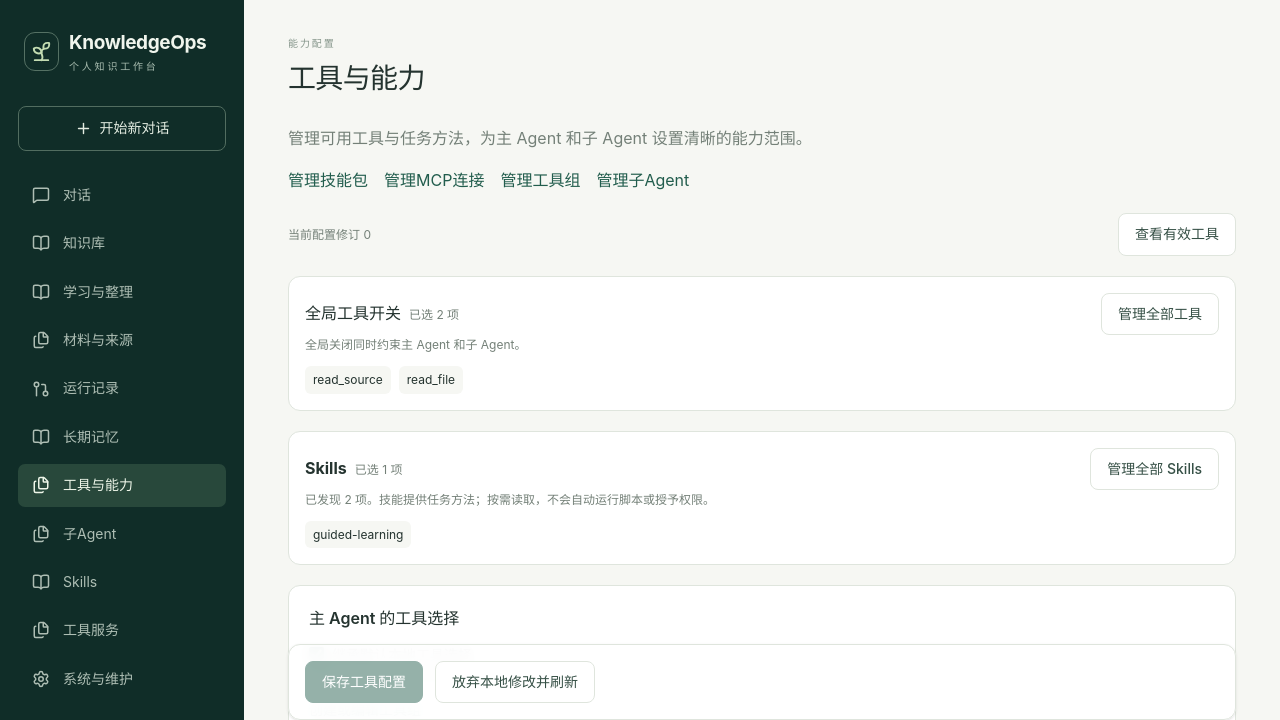
Test: persists skill switches through the versioned policy without changing deployment availability
Click the button "管理全部 Skills".
click(1155, 469)  # box left=1090, top=448, right=1219, bottom=490
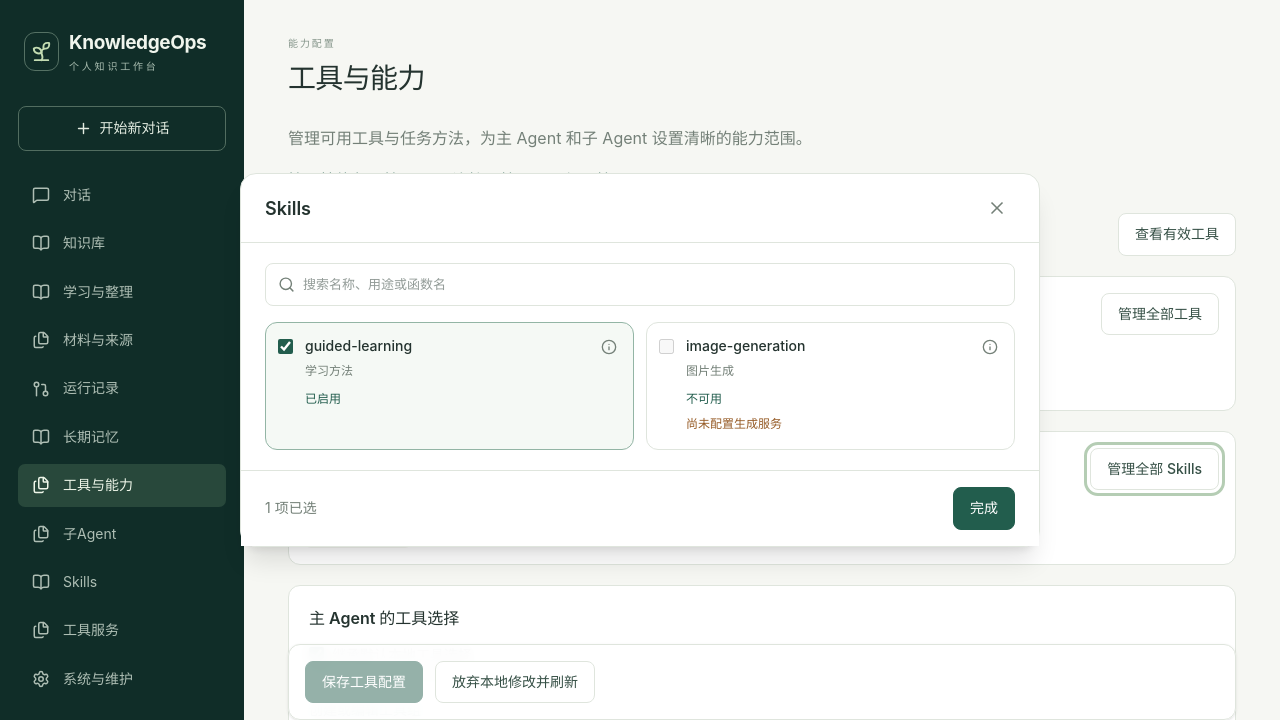
Click the checkbox labelled "guided-learning".
click(286, 346)  # box left=278, top=339, right=293, bottom=354
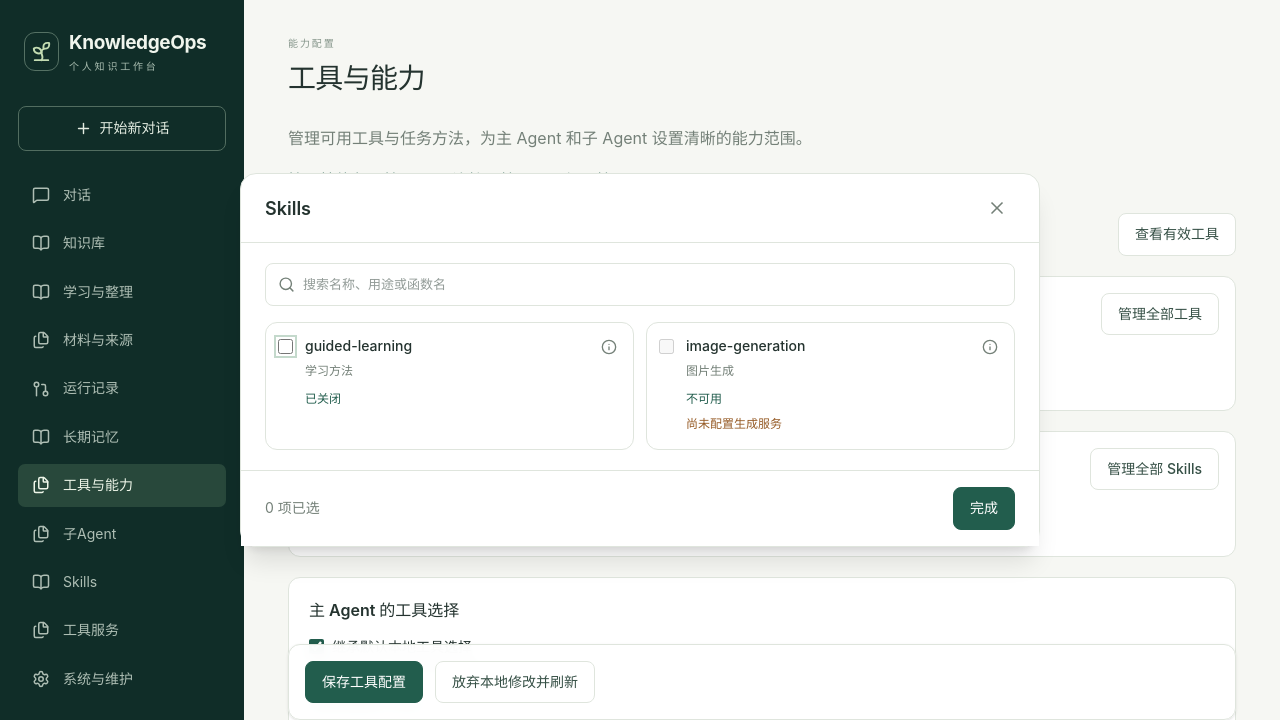
Click the button "完成".
click(984, 509)  # box left=953, top=487, right=1015, bottom=530
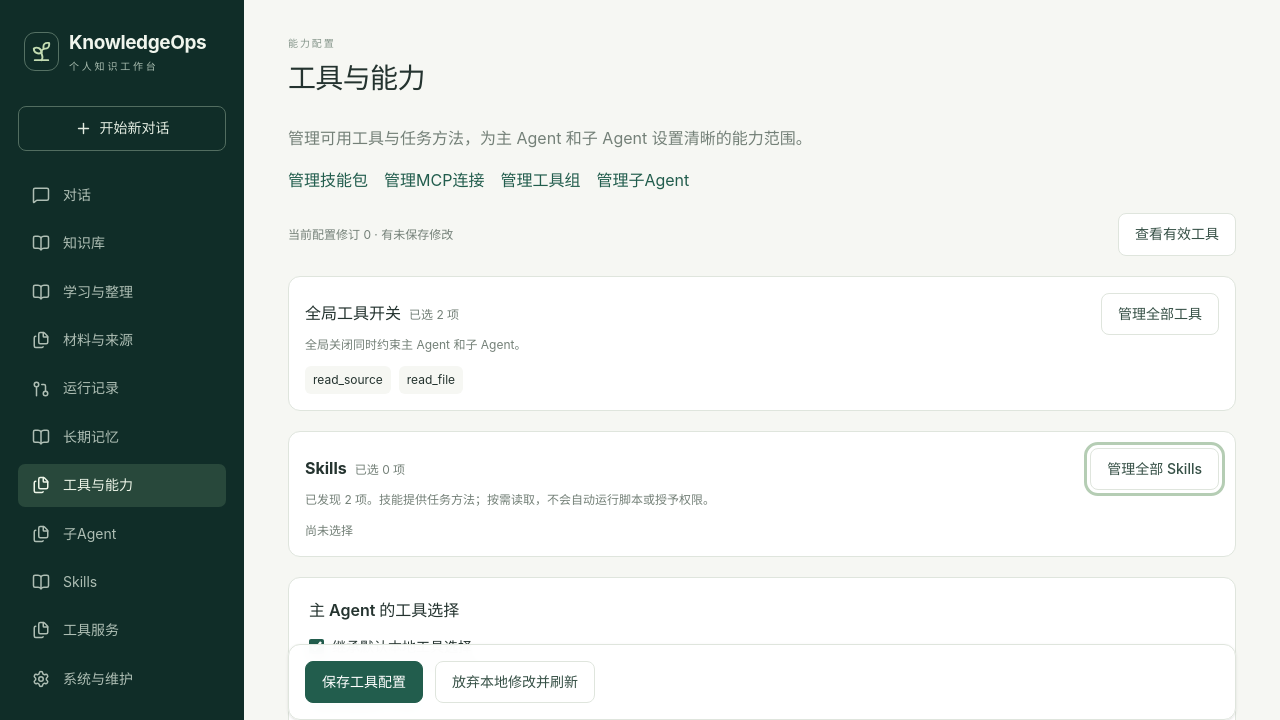
Click the button "保存工具配置".
click(364, 682)  # box left=305, top=661, right=423, bottom=703
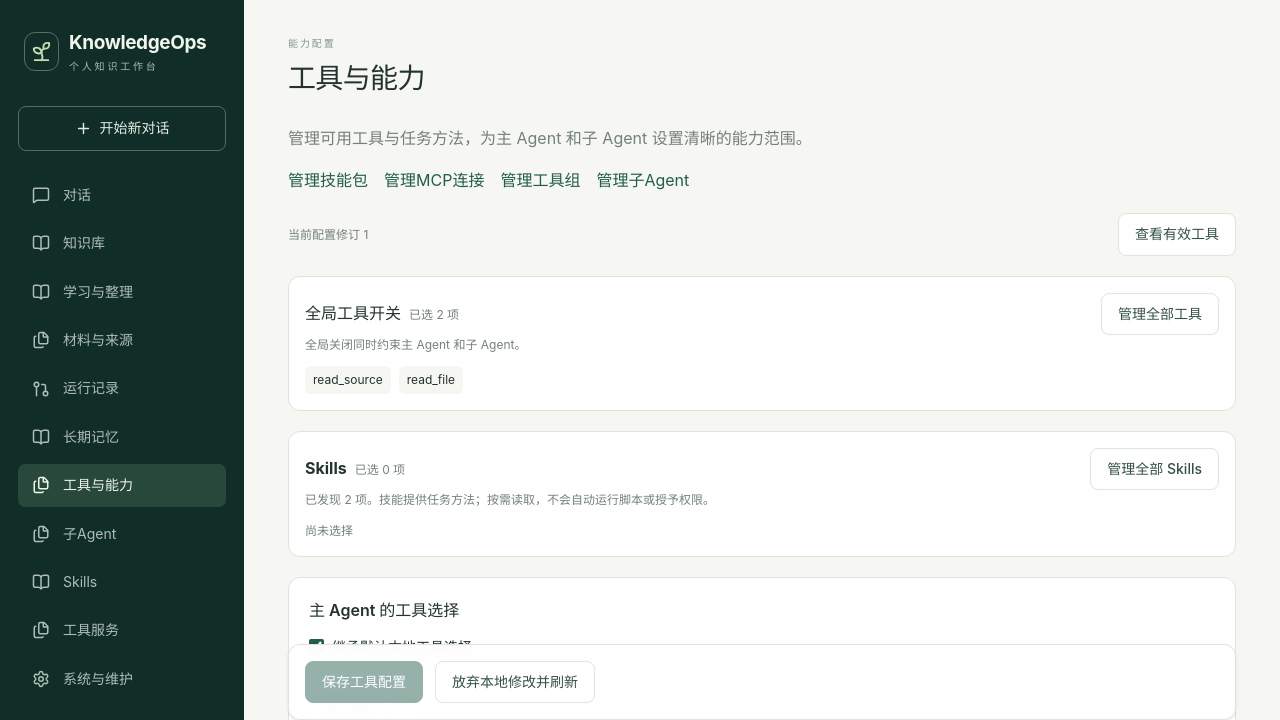
Result: the text "当前配置修订 1" is shown at left=288, top=225, right=368, bottom=244
Click the button "管理全部 Skills".
click(1155, 469)  # box left=1090, top=448, right=1219, bottom=490
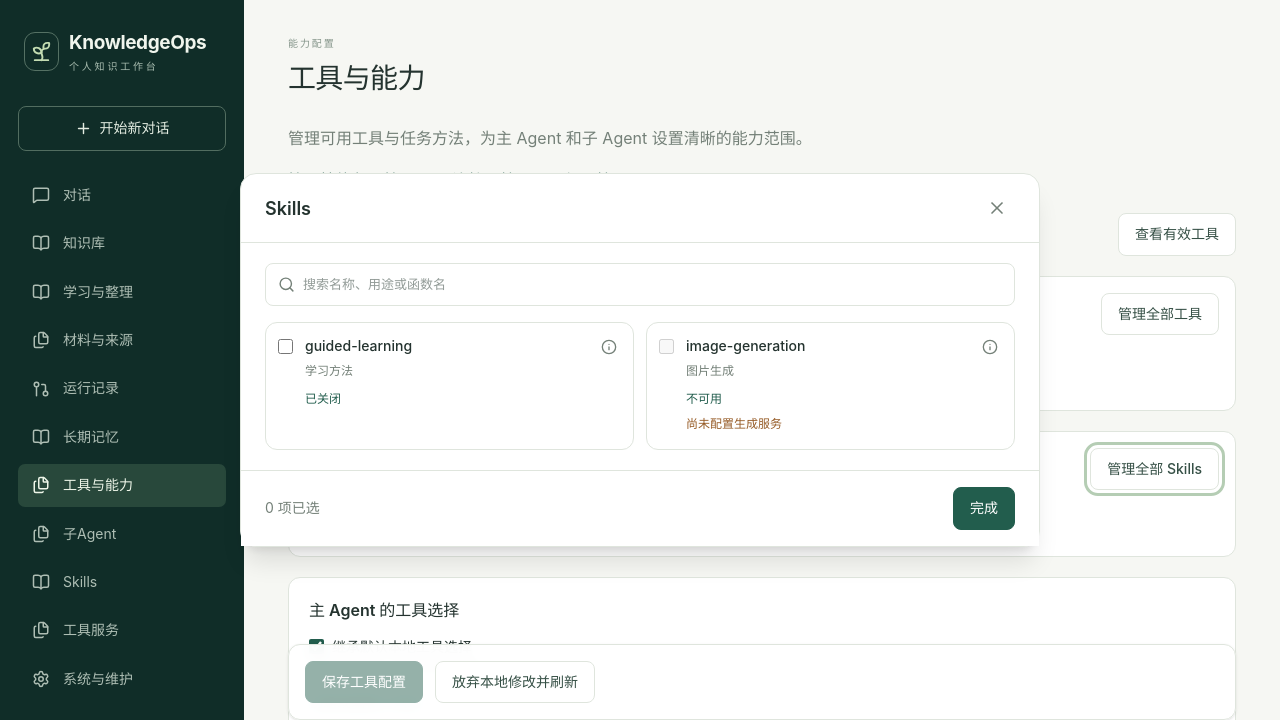
Result: the checkbox labelled "guided-learning" is not checked at left=278, top=339, right=293, bottom=354
